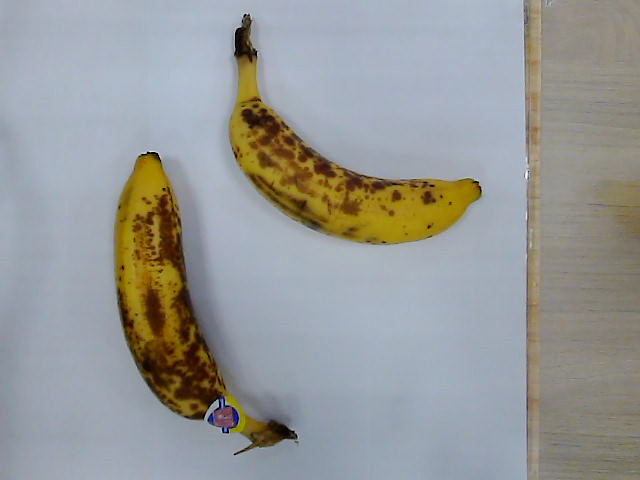rotten_banana: (230, 17, 484, 247), (112, 152, 296, 452)
